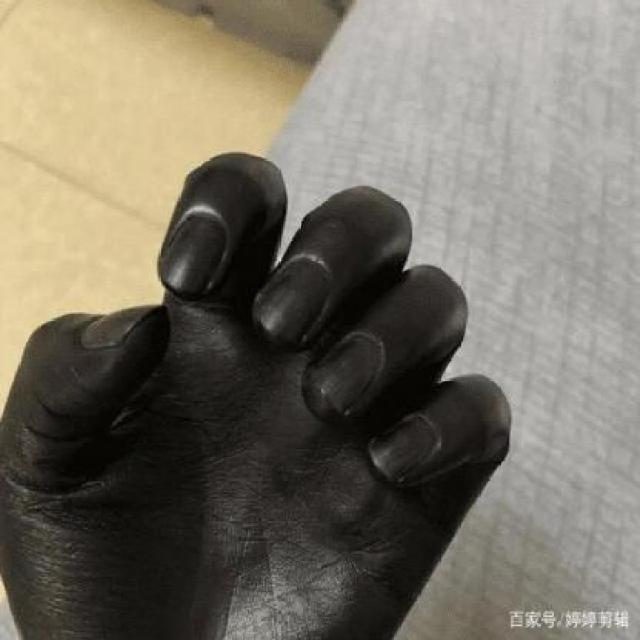hand_noglove: (2, 149, 515, 637)
